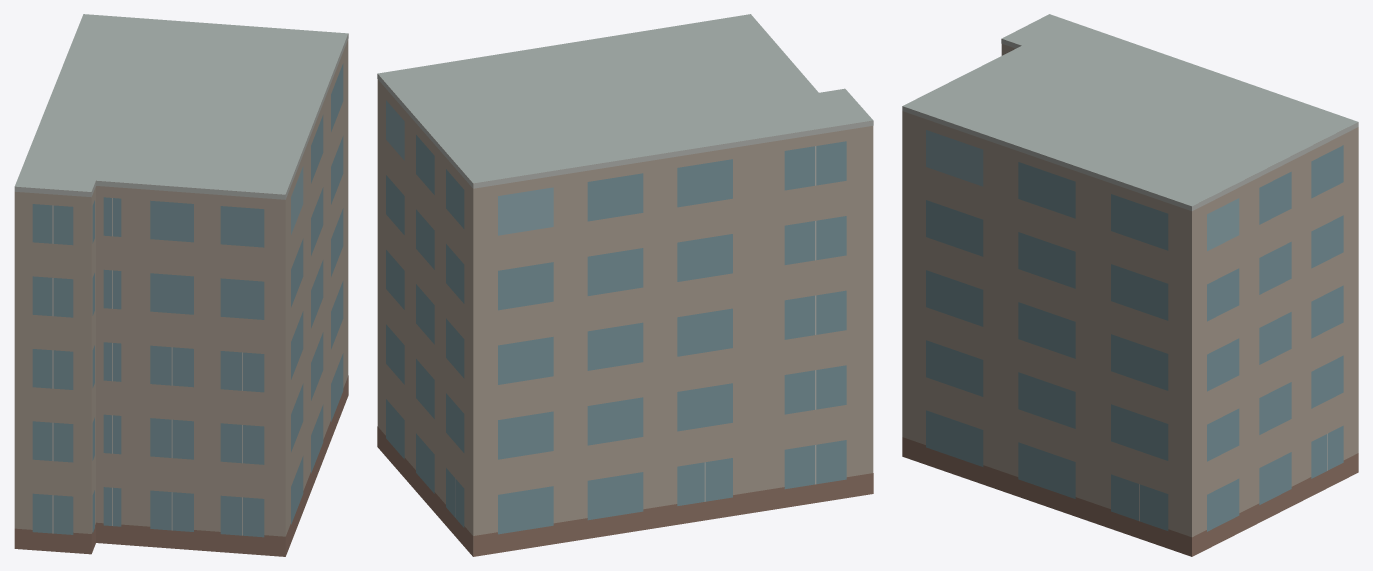
File: survey-upis-32626975.glb
The picture shows the model from 3 angles, left to right: view 1: azimuth 30°, elevation 25°; view 2: azimuth 150°, elevation 25°; view 3: azimuth 270°, elevation 25°; orthographic projection. The views are drawn at different scales.
Visible parts, largest first — view 1: survey-upis-32626975.tmp; view 2: survey-upis-32626975.tmp; view 3: survey-upis-32626975.tmp.
Part boxes in pixels (left/top/right/bottom): survey-upis-32626975.tmp: left=14, top=14, right=348, bottom=556; survey-upis-32626975.tmp: left=377, top=14, right=873, bottom=556; survey-upis-32626975.tmp: left=902, top=14, right=1358, bottom=556.
Size of the model in its own units: 20.37 by 17.3 by 20.42.
